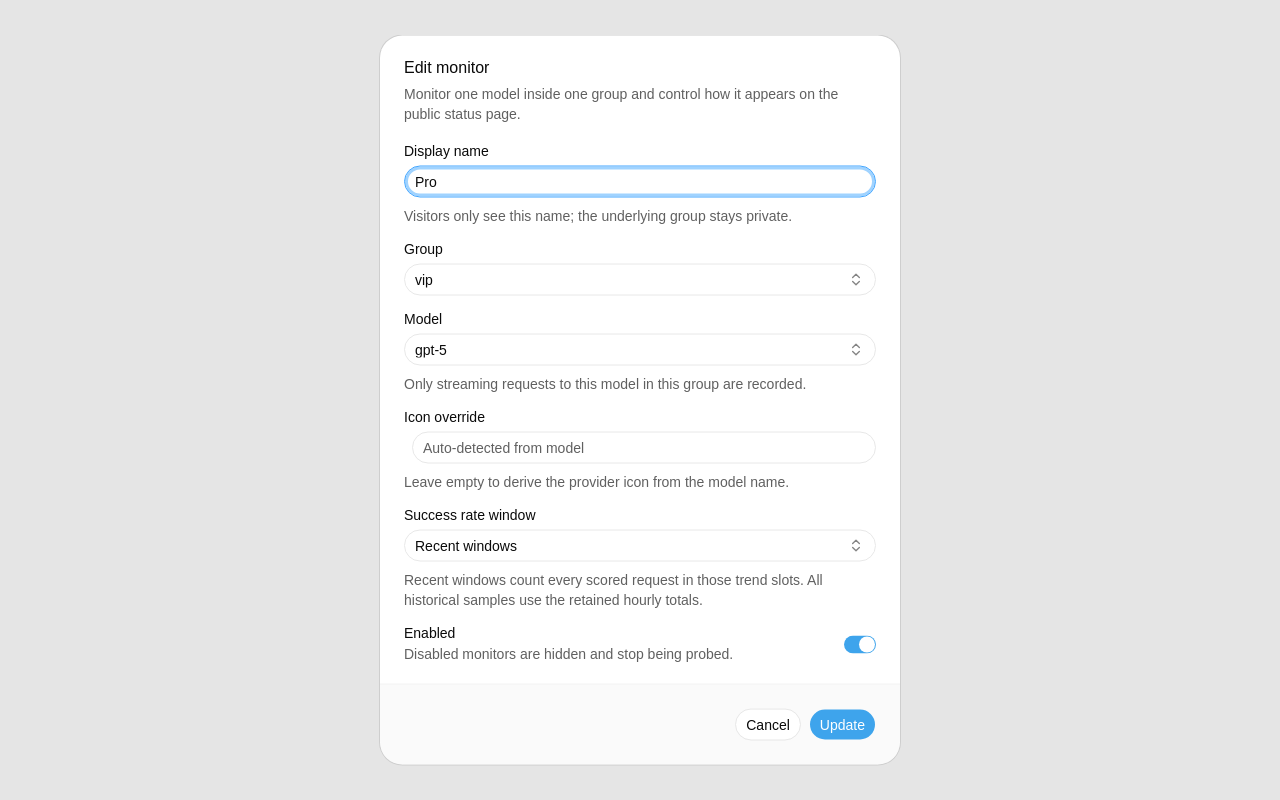
Test: MonitorDialog › blocks submission and reports the clash for an already monitored pair
Step 1. Click the button "Update" → (842, 724), box [809,708,876,740]
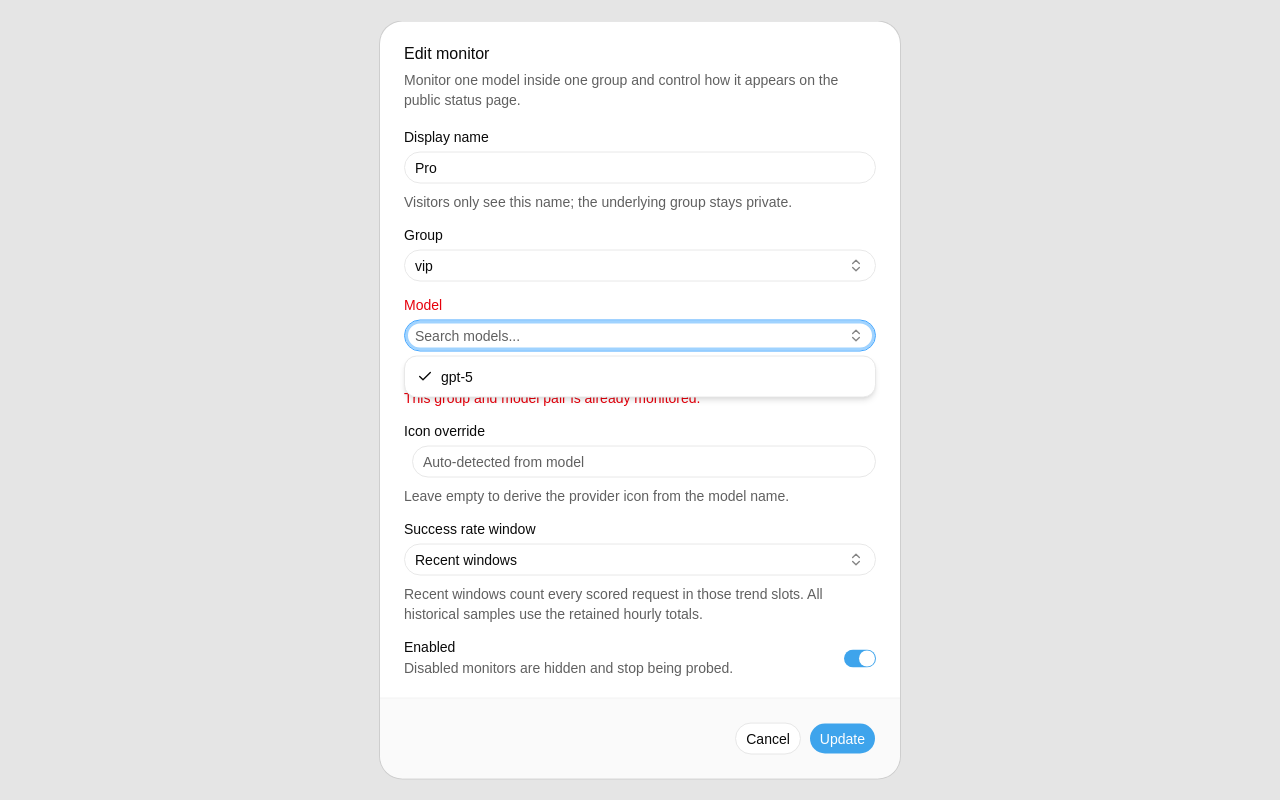
Expected: the text "This group and model pair is already monitored." is shown, [404,390,700,406]
